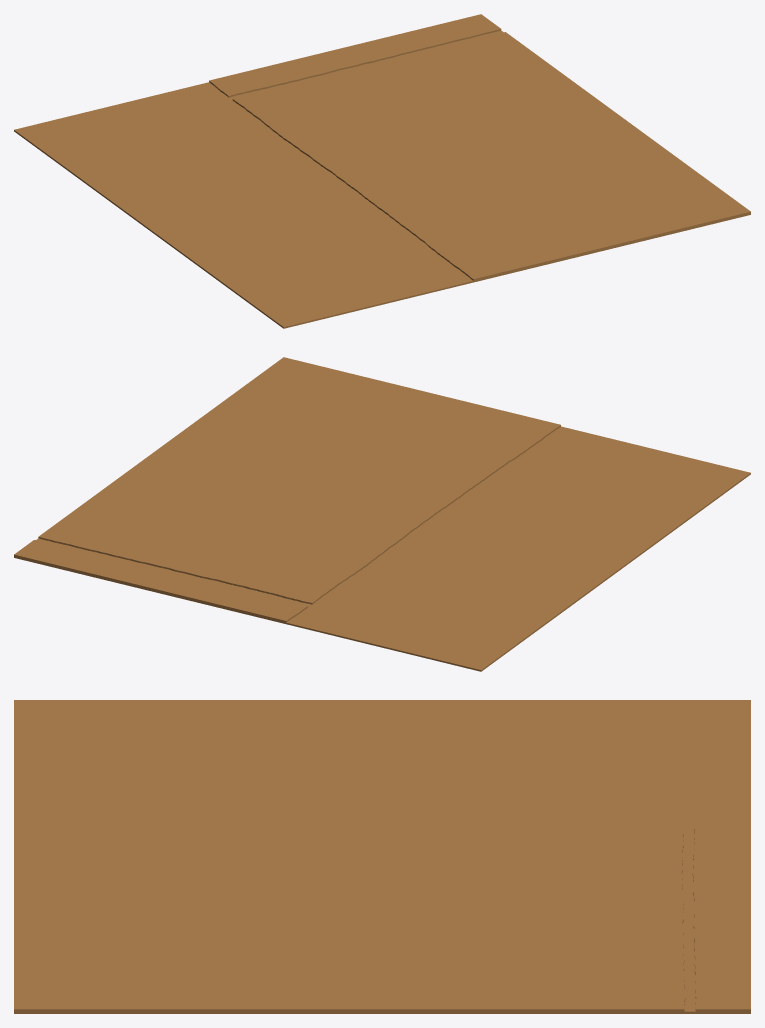
Rendered from ground.glb.
3 renders of one model, top to bottom at view 1: azimuth 30°, elevation 25°; view 2: azimuth 150°, elevation 25°; view 3: azimuth 270°, elevation 25°, orthographic. The views are drawn at different scales.
Visible parts, largest first — view 1: world; view 2: world; view 3: world.
Boxes of the visible parts, x1,y1,x2,y2 form: world: [14, 14, 750, 328]; world: [14, 357, 750, 671]; world: [14, 700, 750, 1013].
Size of the model in its own units: 300 by 2 by 300.
